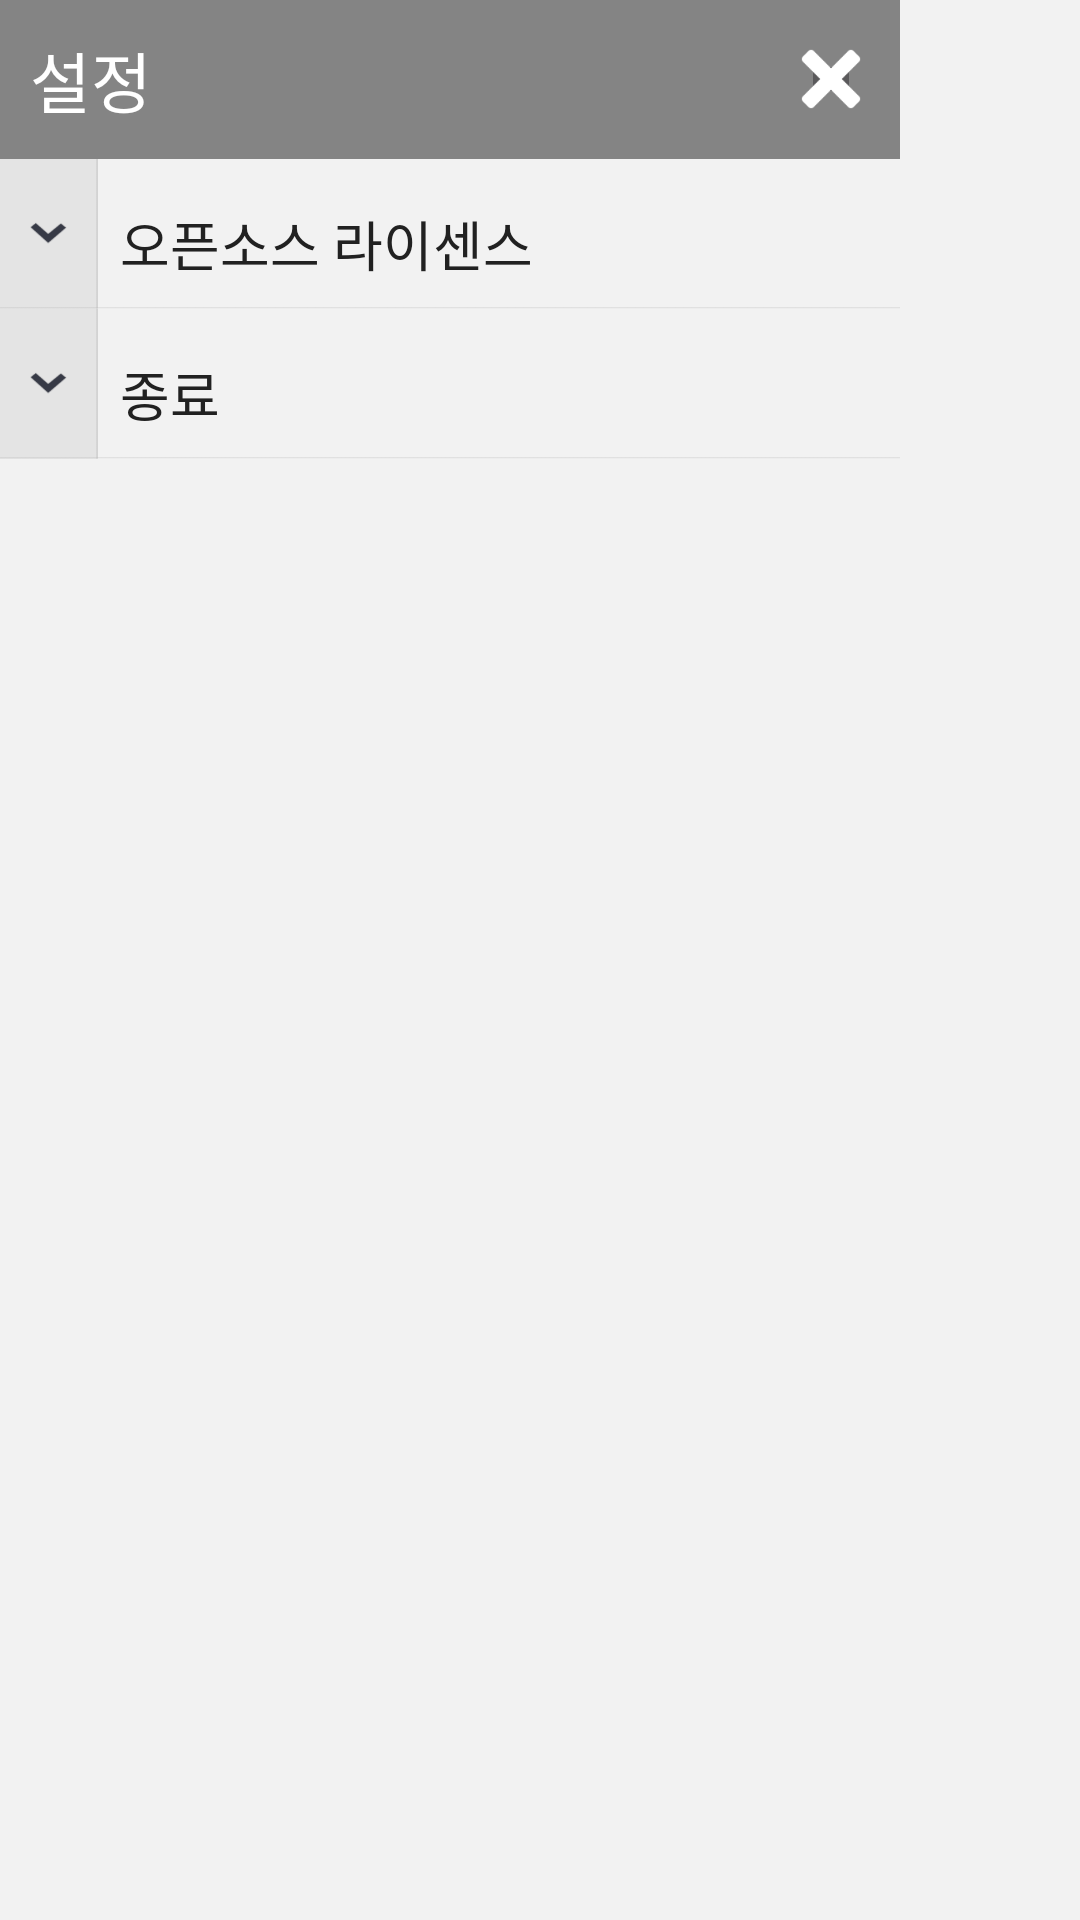

Screen size 1080w x 1920h. Icon name, then its box in pixels as box(x1, y1, x2, y2):
close: box(802, 50, 860, 108)
